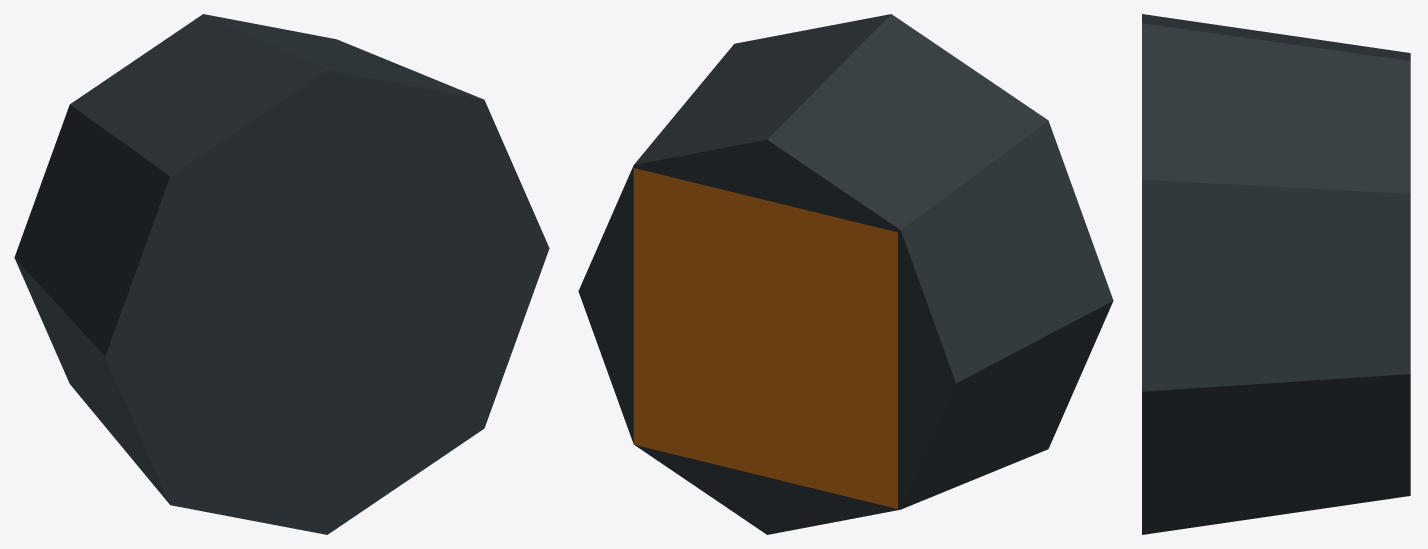
The picture shows the model from 3 angles, left to right: view 1: azimuth 30°, elevation 25°; view 2: azimuth 150°, elevation 25°; view 3: azimuth 270°, elevation 25°; orthographic projection. The views are drawn at different scales.
Parts seen in each view (by area): view 1: mount; view 2: mount; view 3: mount.
Boxes of the visible parts, x1,y1,x2,y2 form: mount: (14, 14, 549, 534); mount: (578, 14, 1113, 534); mount: (1142, 14, 1410, 534).
Size of the model in its own units: 5 by 5 by 2.45.
